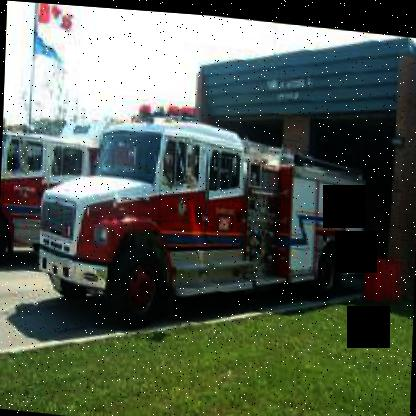emergency: (37, 98, 366, 312)
